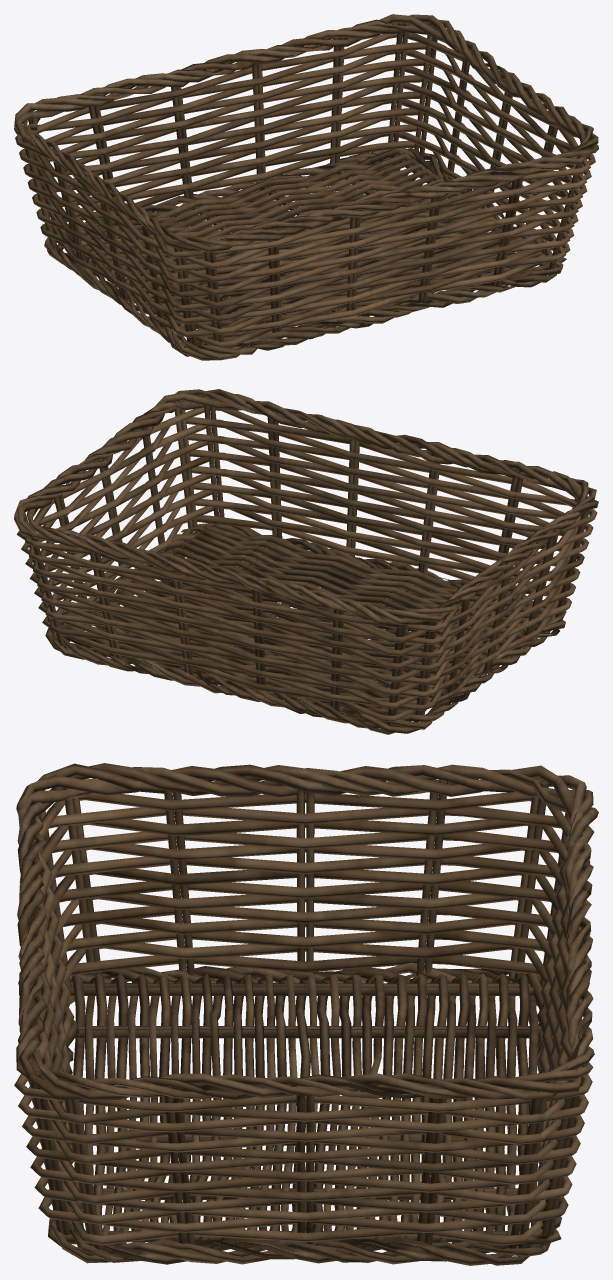
The model's file is wicker_basket_01.glb.
3 views of the same model, one above another, from view 1: azimuth 30°, elevation 25°; view 2: azimuth 150°, elevation 25°; view 3: azimuth 270°, elevation 25° (orthographic). The views are drawn at different scales.
Bounding box in the file's own units: 0.383 × 0.1174 × 0.295.
Materials: 1 (1 with a texture image).
